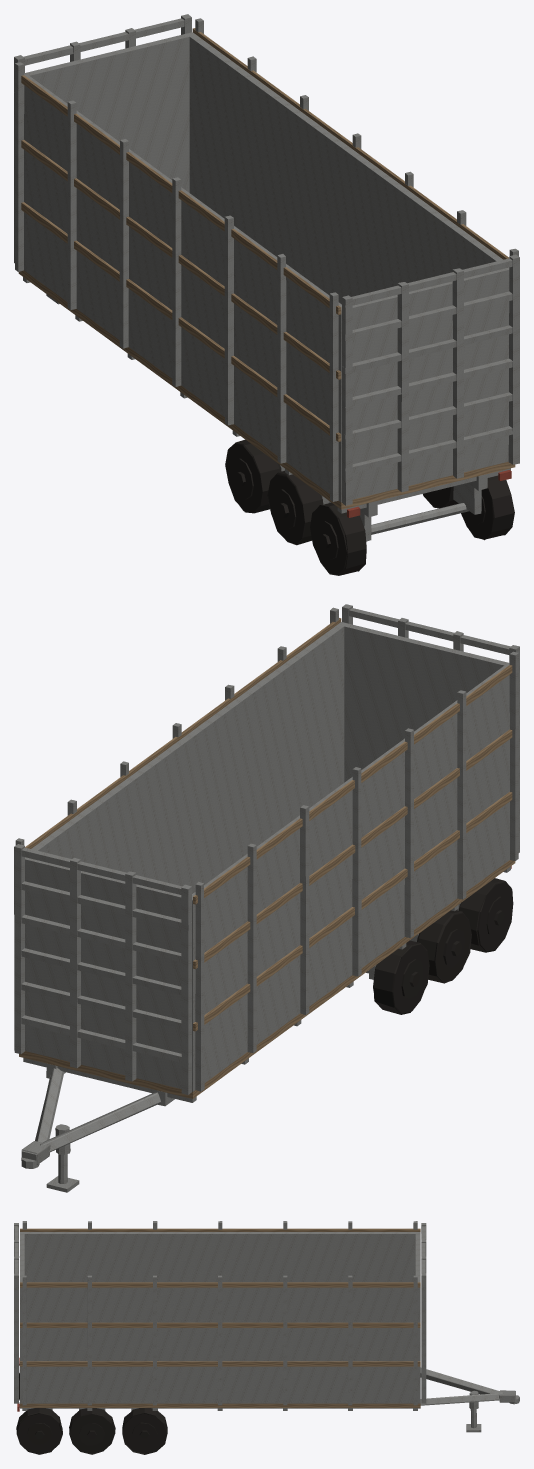
Rendered from bale_rack_trailer.glb.
The picture shows the model from 3 angles, top to bottom: view 1: azimuth 30°, elevation 25°; view 2: azimuth 150°, elevation 25°; view 3: azimuth 270°, elevation 25°; orthographic projection. The views are drawn at different scales.
Parts seen in each view (by area): view 1: BaleRackTrailer, Tailgate, Wheel_L3, Wheel_L1, Wheel_L2, Wheel_R3; view 2: BaleRackTrailer, Tailgate, Wheel_L1, Wheel_L3, Wheel_L2; view 3: BaleRackTrailer, Wheel_R3, Wheel_R1, Wheel_R2.
Boxes of the visible parts, x1,y1,x2,y2 form: BaleRackTrailer: (14, 14, 519, 541); Tailgate: (352, 268, 508, 499); Wheel_L3: (310, 502, 366, 575); Wheel_L1: (225, 439, 281, 513); Wheel_L2: (267, 470, 323, 545); Wheel_R3: (461, 475, 514, 540); BaleRackTrailer: (14, 604, 519, 1192); Tailgate: (344, 623, 507, 782); Wheel_L1: (373, 940, 429, 1014); Wheel_L3: (459, 878, 513, 952); Wheel_L2: (417, 910, 471, 983); BaleRackTrailer: (14, 1221, 502, 1432); Wheel_R3: (16, 1408, 62, 1454); Wheel_R1: (122, 1408, 167, 1454); Wheel_R2: (69, 1408, 115, 1454).
Bounding box in the file's own units: 2.27 × 3.4 × 8.63.
4 materials, 3 textured.
